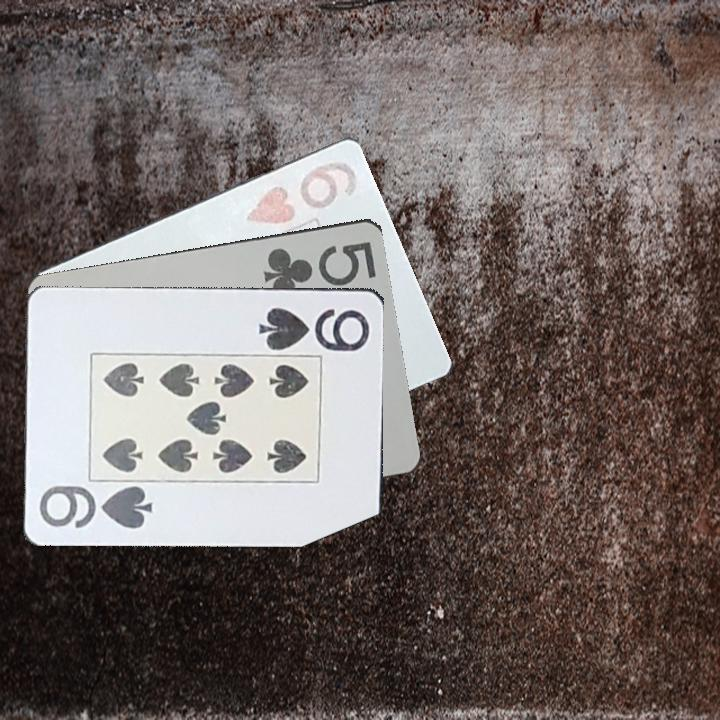5c: (260, 237, 380, 298)
6h: (239, 153, 361, 227)
9s: (36, 482, 156, 531), (256, 303, 373, 351)
